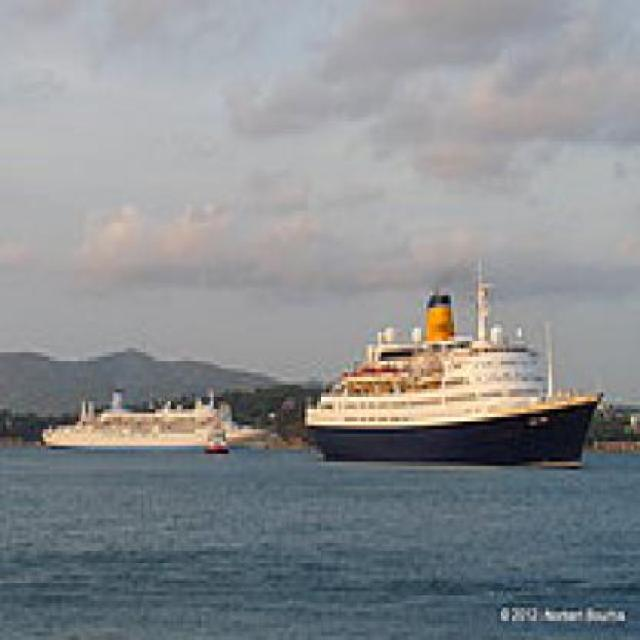cruise: (297, 244, 617, 483), (34, 382, 282, 463)
